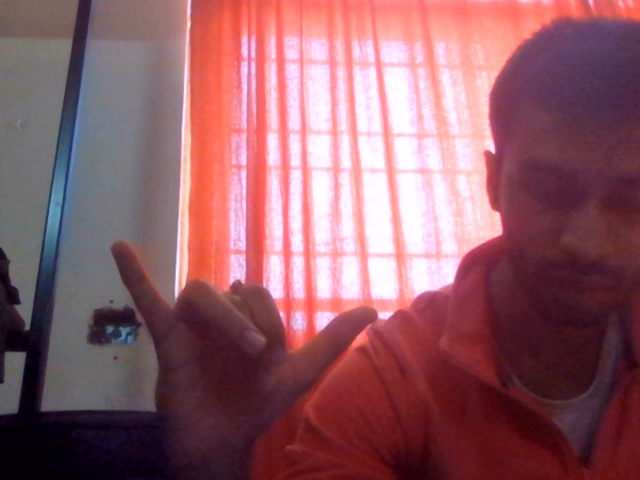Y: (91, 204, 421, 469)
